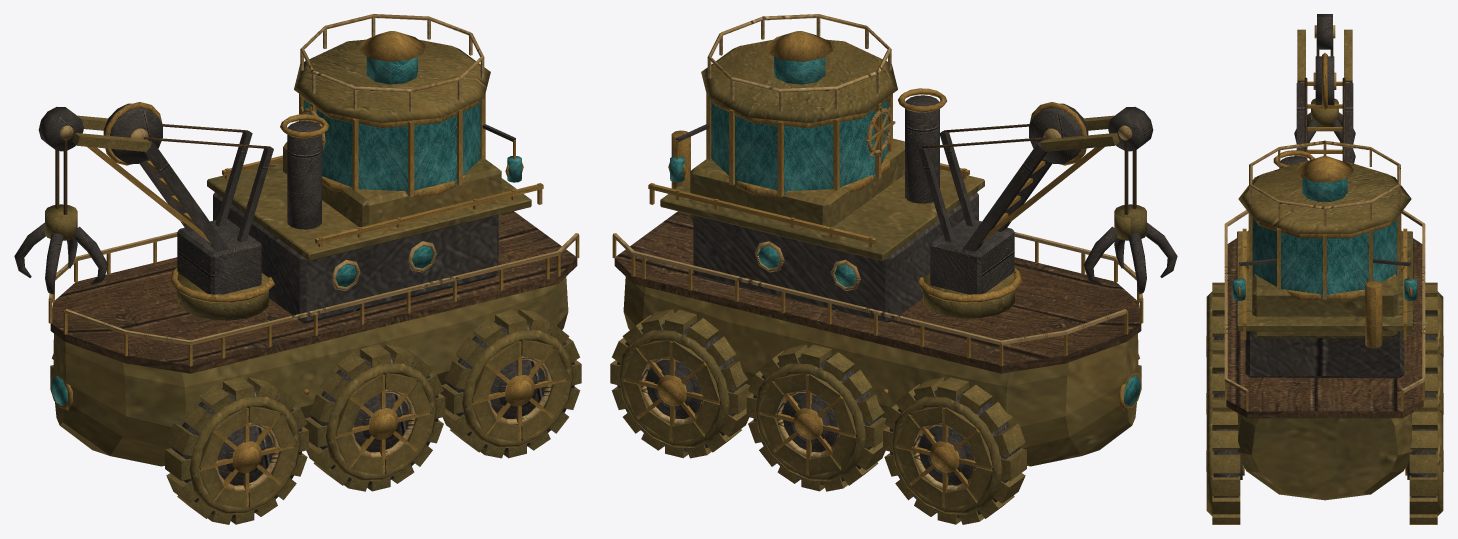
Rendered from land-yacht.glb.
3 views of the same model, side by side, from view 1: azimuth 30°, elevation 25°; view 2: azimuth 150°, elevation 25°; view 3: azimuth 270°, elevation 25° (orthographic). The views are drawn at different scales.
Parts seen in each view (by area): view 1: wheels, wheelhouse, crane; view 2: wheels, wheelhouse, crane; view 3: wheels, wheelhouse, crane.
Boxes of the visible parts, x1=… form: wheels: x1=48, y1=211, x2=581, y2=524; wheelhouse: x1=207, y1=14, x2=543, y2=323; crane: x1=14, y1=102, x2=274, y2=320; wheels: x1=610, y1=211, x2=1143, y2=524; wheelhouse: x1=648, y1=14, x2=984, y2=322; crane: x1=917, y1=102, x2=1177, y2=318; wheels: x1=1206, y1=210, x2=1443, y2=524; wheelhouse: x1=1232, y1=140, x2=1417, y2=377; crane: x1=1294, y1=14, x2=1355, y2=163.
Bounding box in the file's own units: 9.4 × 7.02 × 4.46.
1 material, 1 textured.
